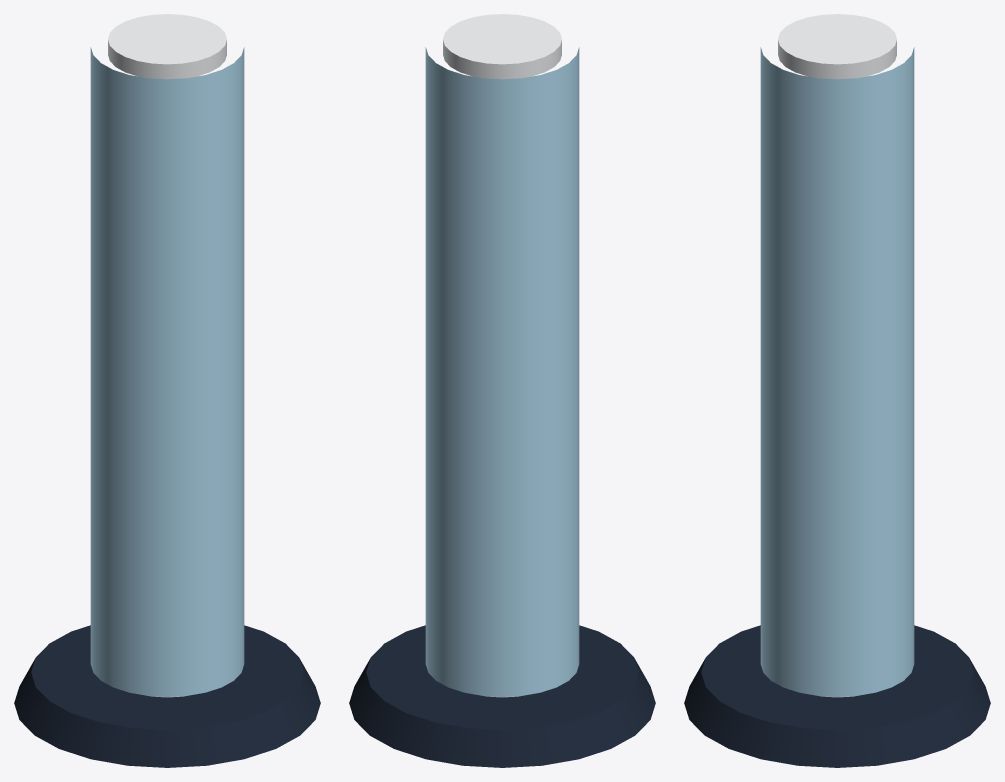
The model's file is photon_clock.glb.
3 renders of one model, left to right at view 1: azimuth 30°, elevation 25°; view 2: azimuth 150°, elevation 25°; view 3: azimuth 270°, elevation 25°, orthographic.
Visible parts, largest first — view 1: Precision_Photon_Light_Clock; view 2: Precision_Photon_Light_Clock; view 3: Precision_Photon_Light_Clock.
Part boxes in pixels (box(x1,y1,x2,y2)): Precision_Photon_Light_Clock: box(14, 14, 320, 767); Precision_Photon_Light_Clock: box(349, 14, 655, 767); Precision_Photon_Light_Clock: box(684, 14, 990, 767).
Bounding box in the file's own units: 0.18 × 0.43 × 0.18.
